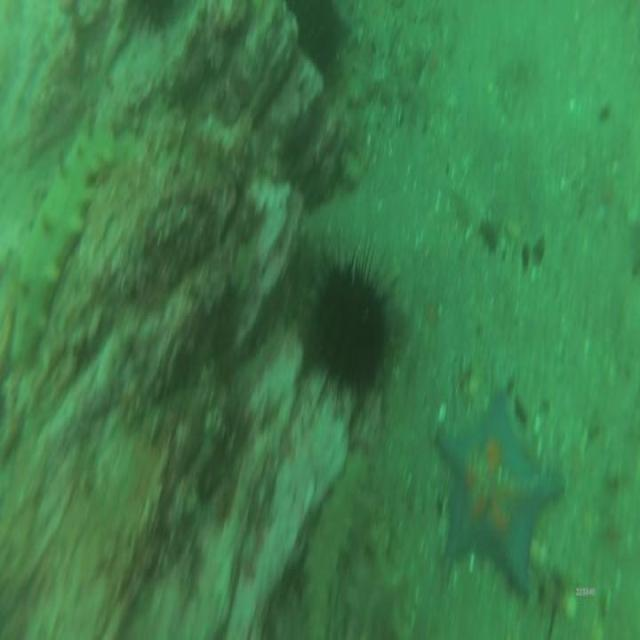echinus: (316, 261, 386, 390), (295, 3, 348, 73)
holothurian: (10, 138, 109, 365), (308, 446, 358, 638)
starfish: (439, 397, 559, 592)
